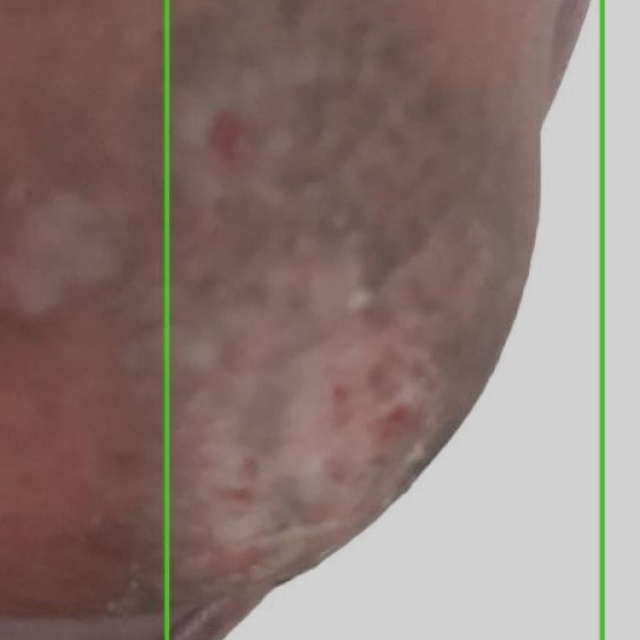Eczema: (0, 0, 602, 639), (167, 0, 639, 639)
